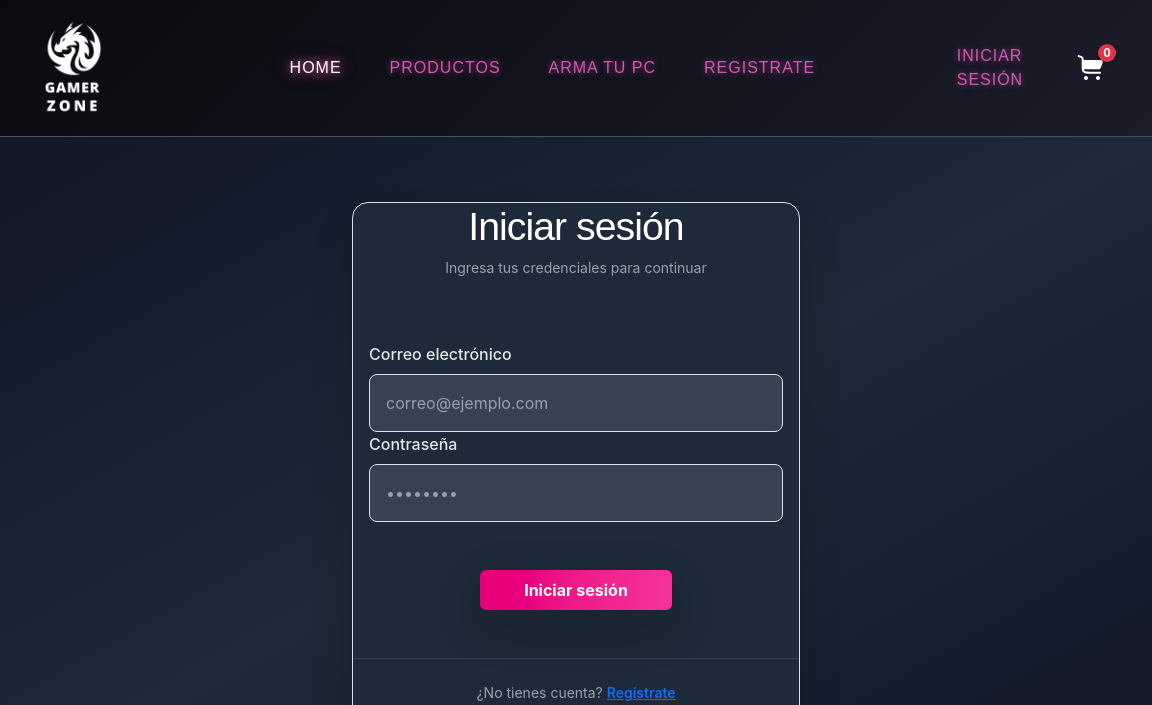
Login Component › muestra error para formato de email invalido
The width and height of the screenshot is (1152, 705).
Type "correo-invalido" into the field with placeholder "correo@ejemplo.com".
click(576, 403); type("correo-invalido")  # box [369, 374, 783, 432]
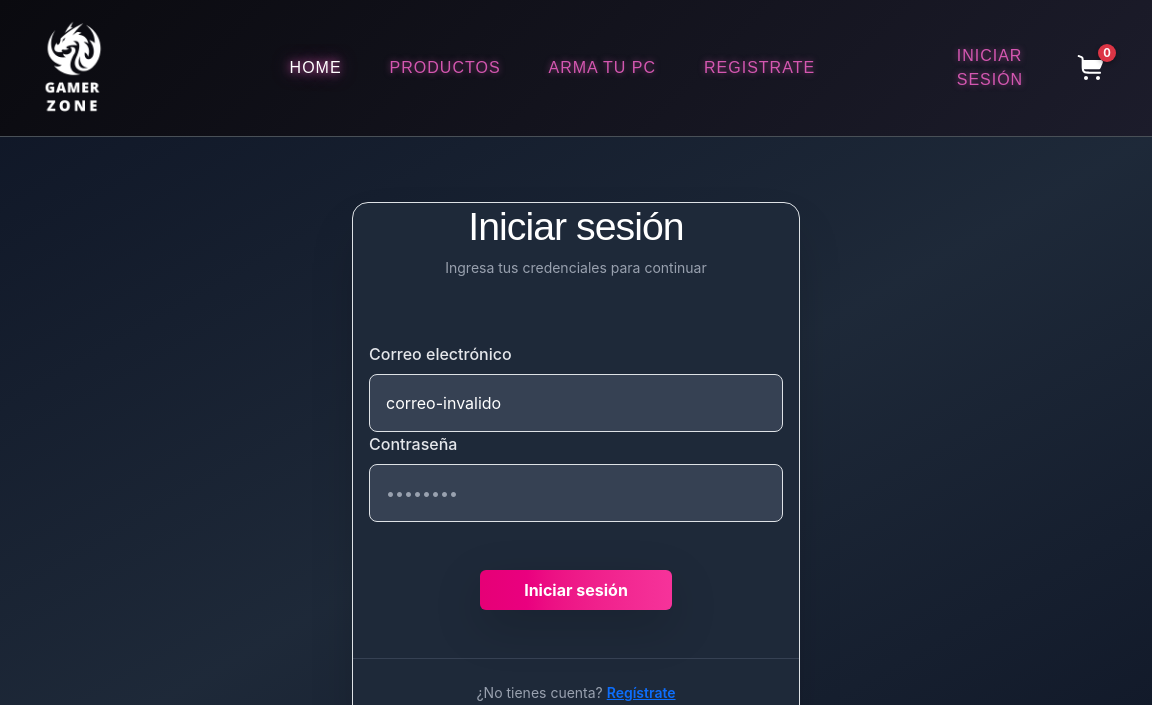
Leave the field with placeholder "correo@ejemplo.com", box [369, 374, 783, 432]
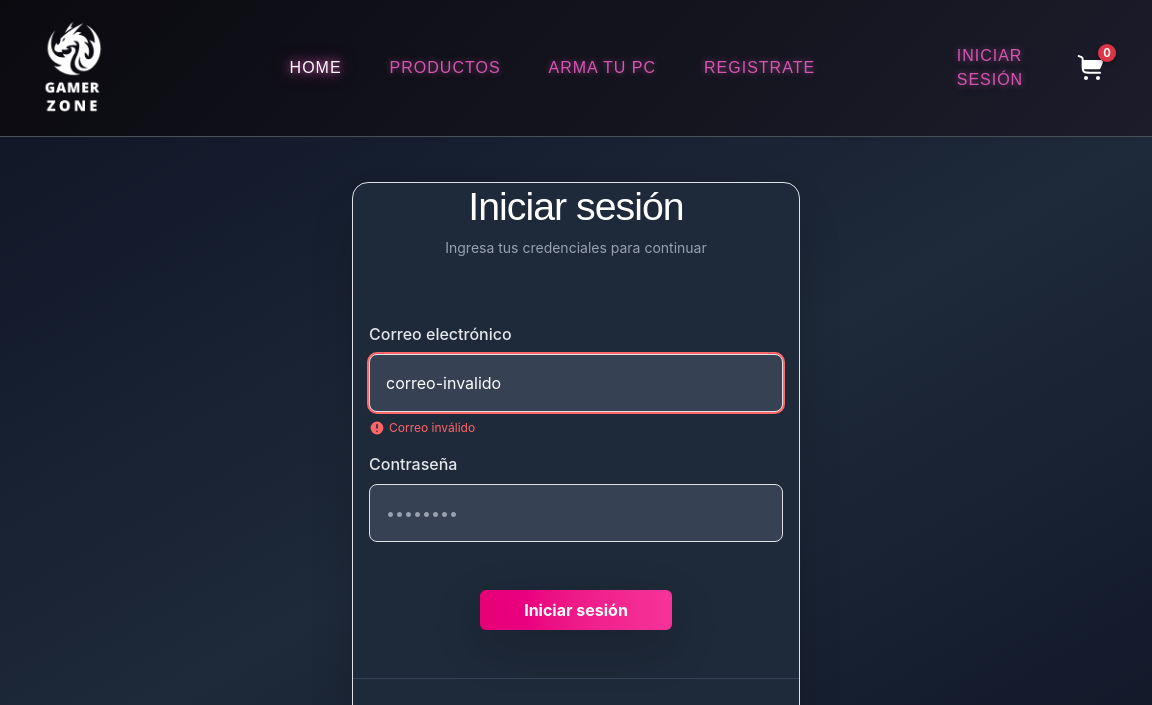
Expected: the text "Correo inválido" is shown, [369, 420, 475, 436]
